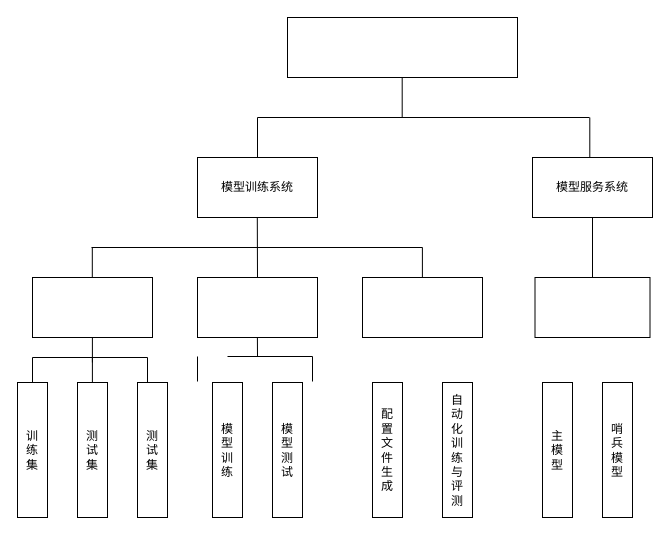
The diagram is 670 pixels wide and 535 high, and some of its shapes have lost their labels. Each missing label, with the centre of its shape:
"基于模型并行编辑的敏感词替换系统" belongs at [402,47].
"并行模型模块" belongs at [592,307].
"数据处理模块" belongs at [92,307].
"自动化模块" belongs at [422,307].
"训练与评测模块" belongs at [257,307].
